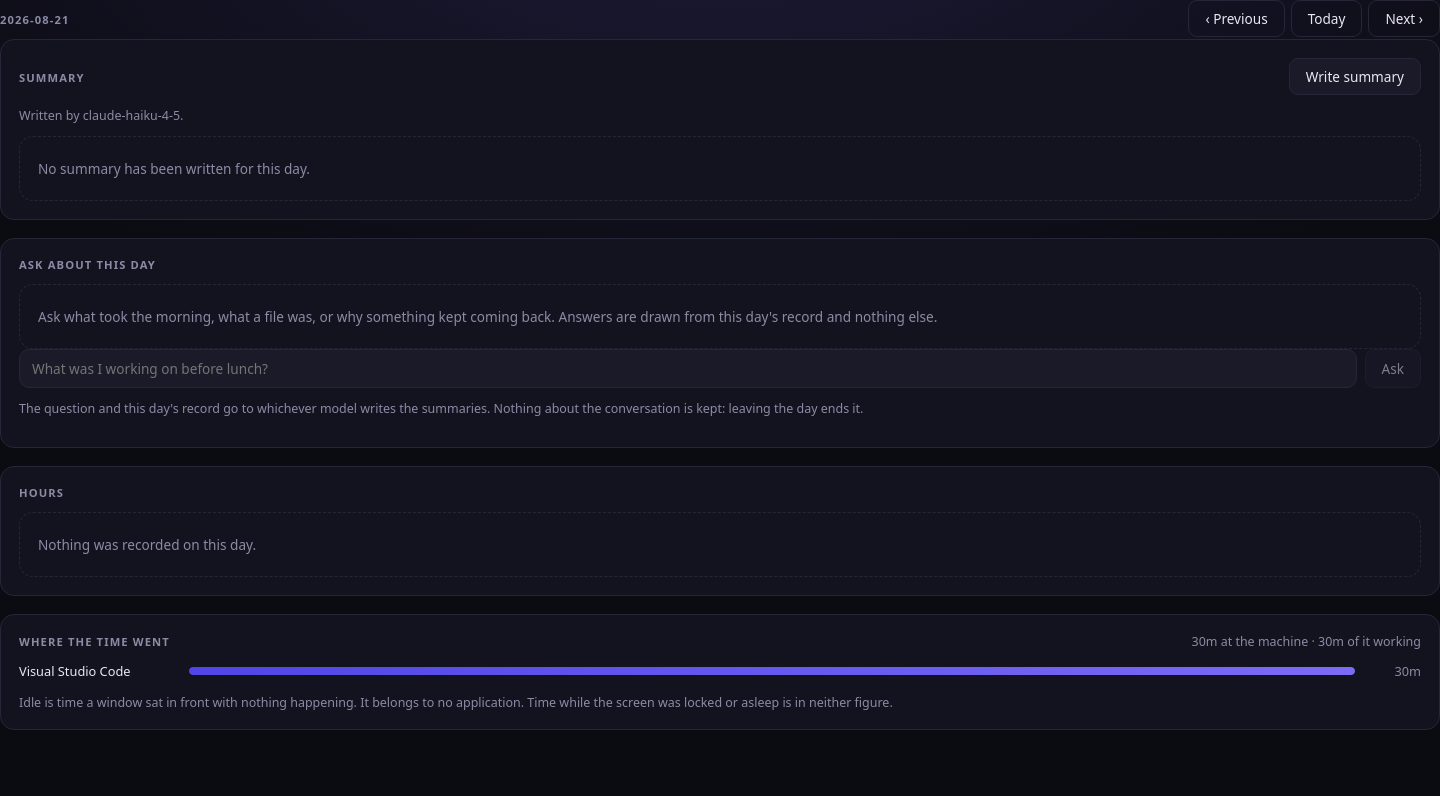
Test: Day view › carries the conversation so far back with the next question
Type "First?" into the field named "Your question" at (688, 368), box [19, 349, 1356, 388]
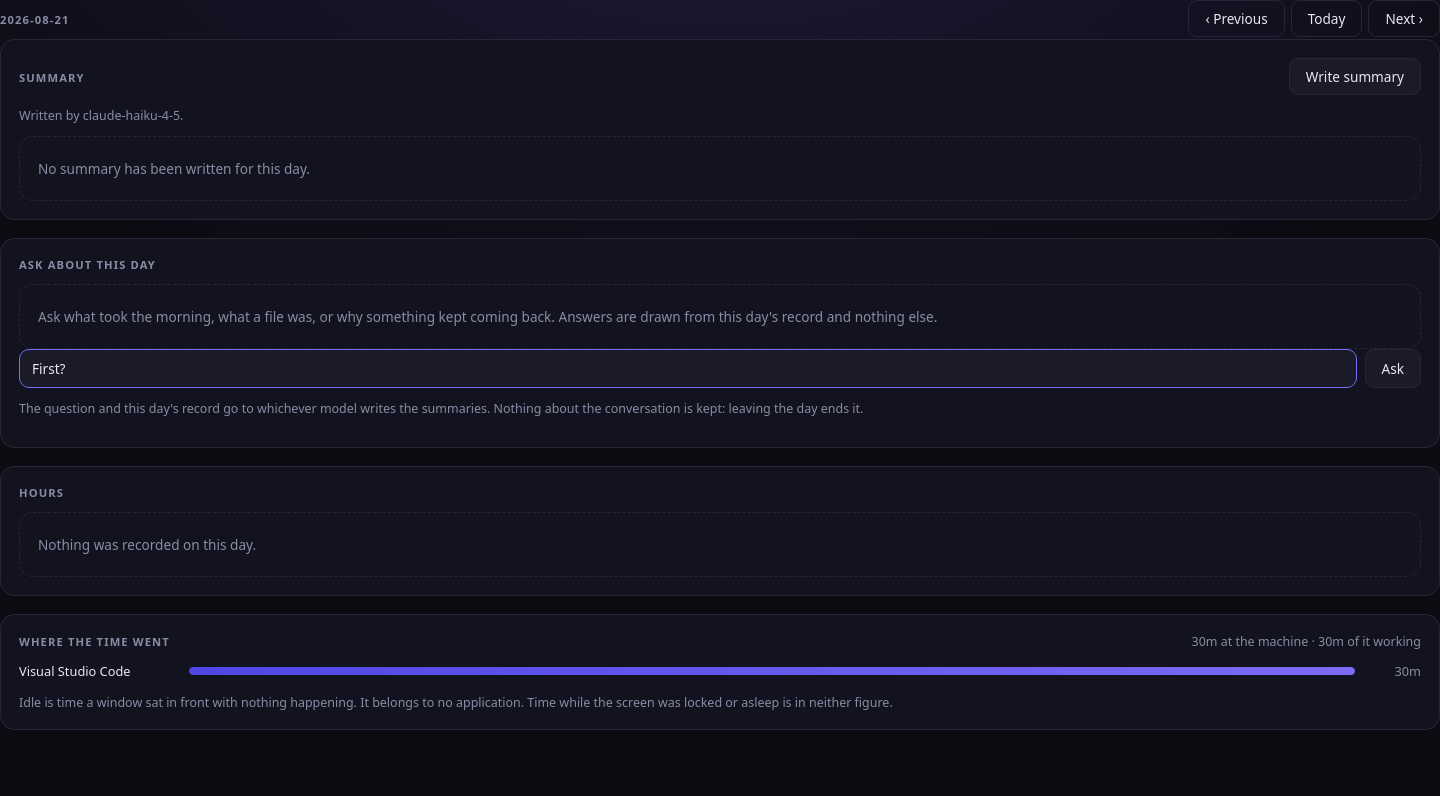
Click the button "Ask" at (1393, 368), box [1364, 349, 1421, 388]
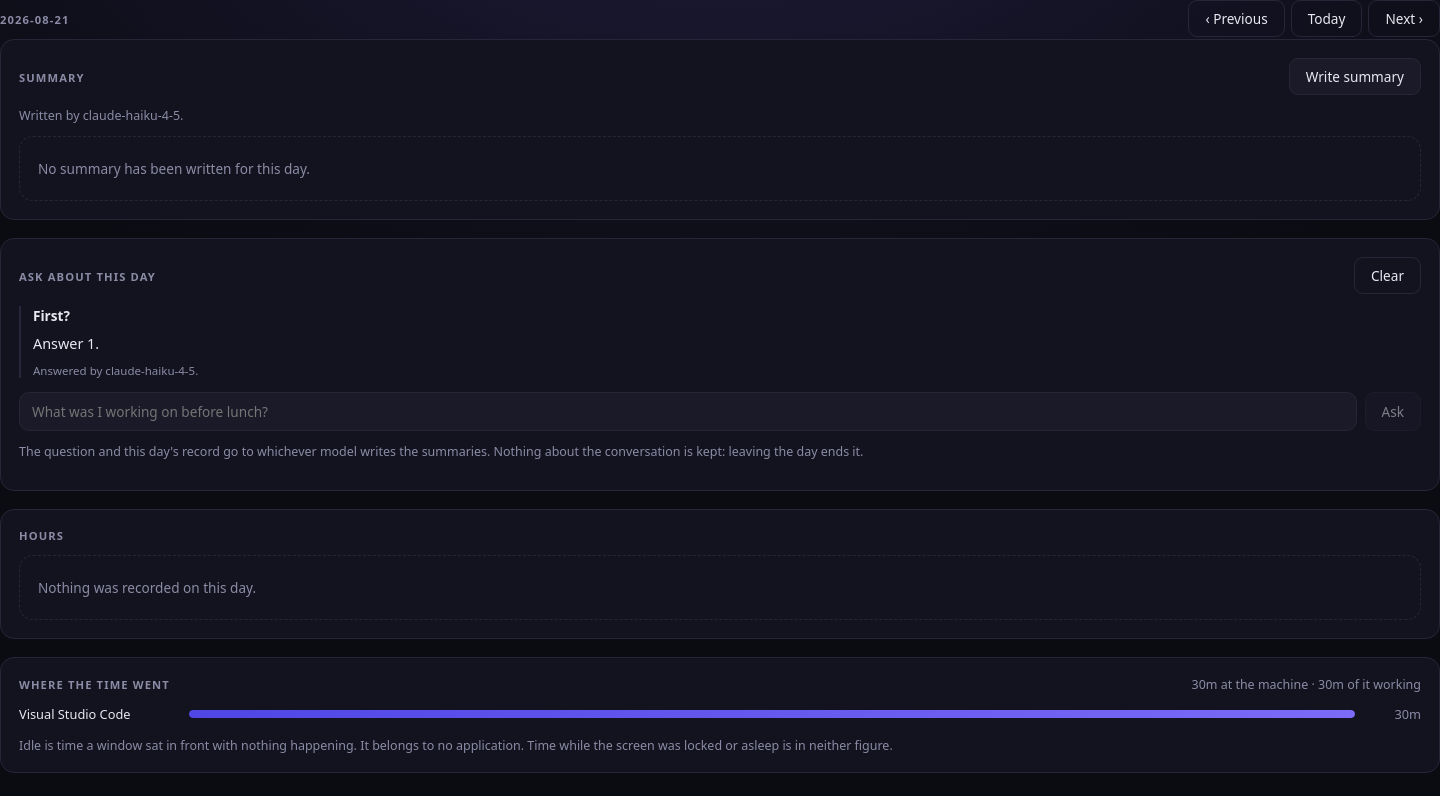
Now the text "Answer 1." is shown, box [33, 334, 99, 353]
Type "Second?" into the field named "Your question" at (688, 412), box [19, 392, 1356, 431]
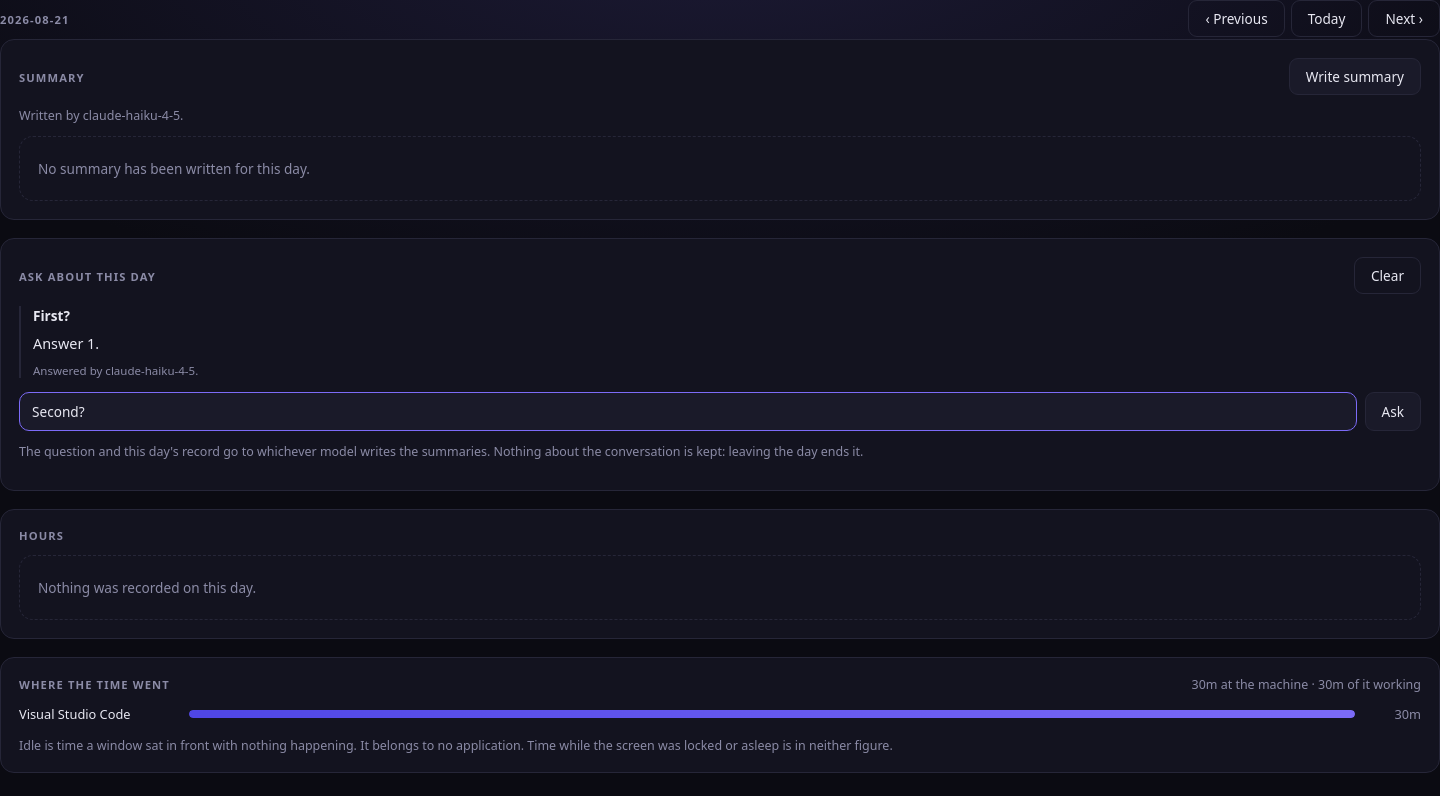
Click the button "Ask" at (1393, 412), box [1364, 392, 1421, 431]
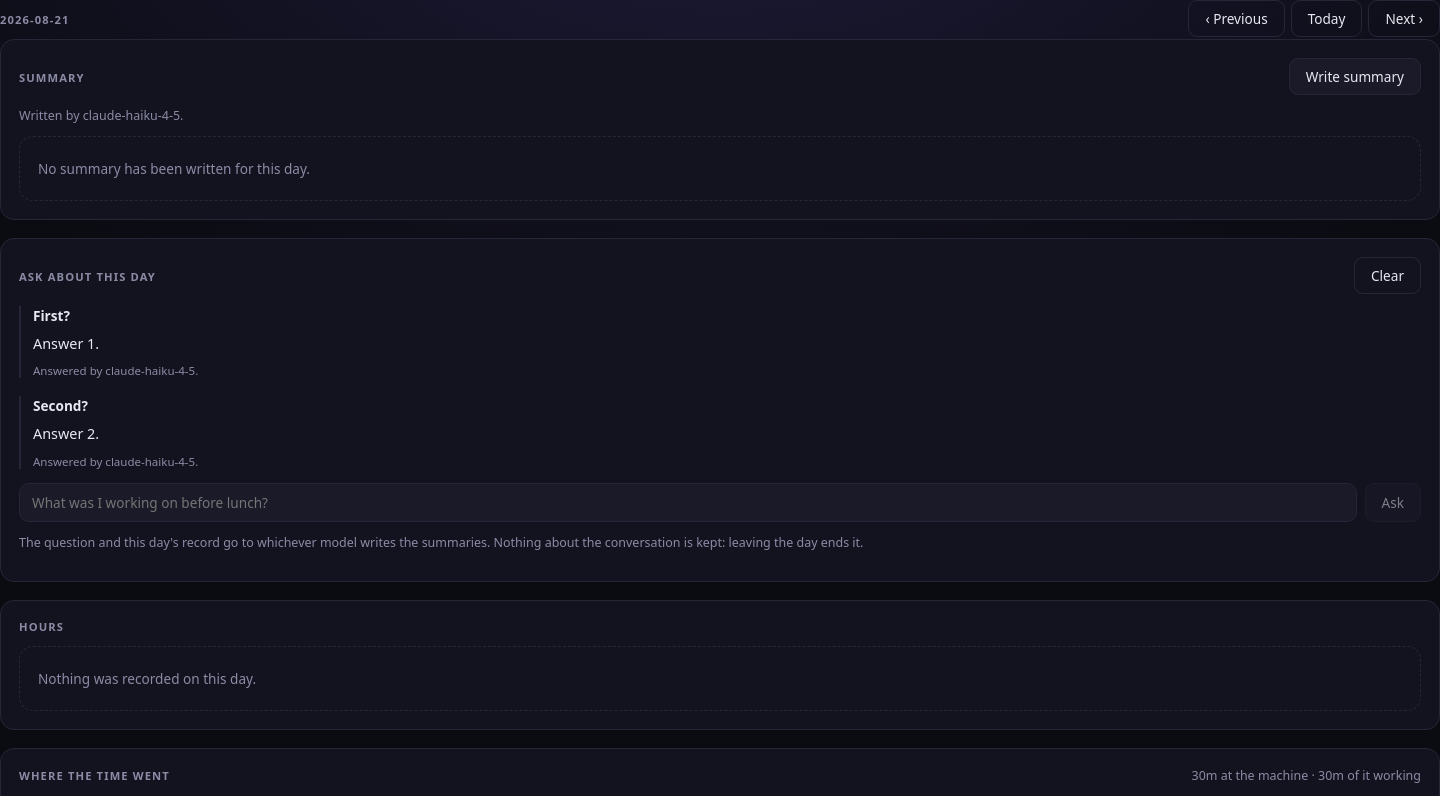
Now the text "Answer 2." is shown, box [33, 424, 99, 443]
